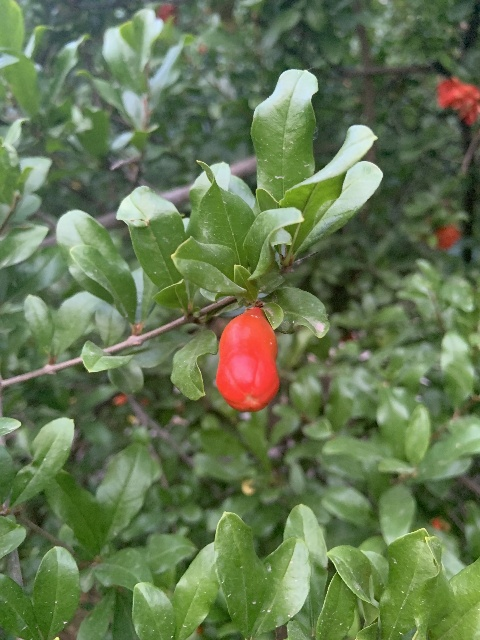bud: (216, 306, 279, 412)
flower: (437, 77, 480, 125)
